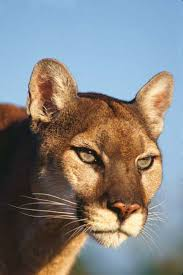Mountain Lion: (4, 56, 179, 249)
